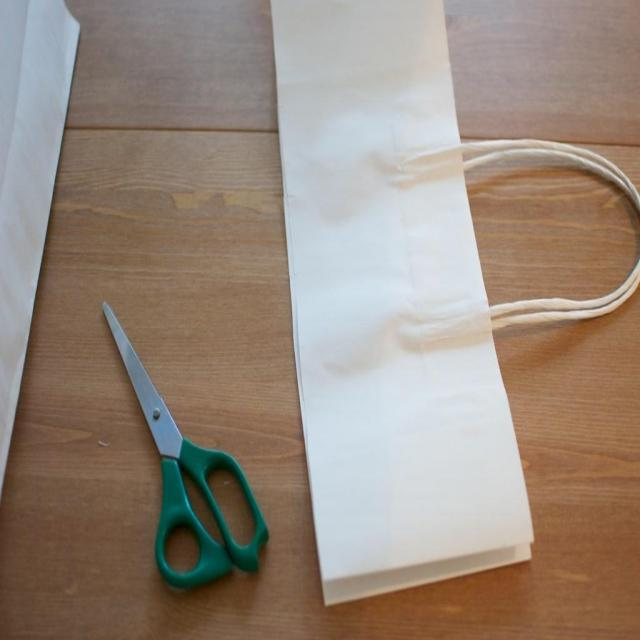scissor: (101, 302, 271, 587)
